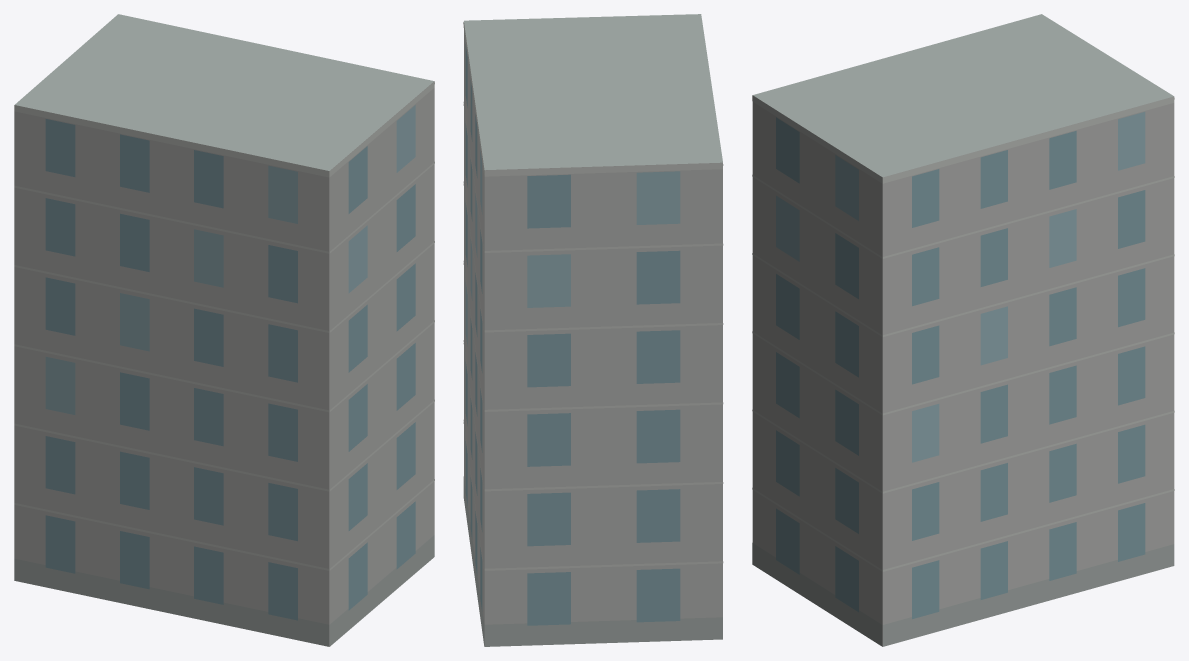
File: survey-upis-32683982.glb
3 views of the same model, side by side, from view 1: azimuth 30°, elevation 25°; view 2: azimuth 150°, elevation 25°; view 3: azimuth 270°, elevation 25° (orthographic).
Visible parts, largest first — view 1: survey-upis-32683982.tmp; view 2: survey-upis-32683982.tmp; view 3: survey-upis-32683982.tmp.
Boxes of the visible parts, box(x1,y1,x2,y2) form: survey-upis-32683982.tmp: box(14, 14, 434, 646); survey-upis-32683982.tmp: box(463, 14, 723, 646); survey-upis-32683982.tmp: box(752, 14, 1174, 646).
Bounding box in the file's own units: 13.46 × 18 × 14.68.
